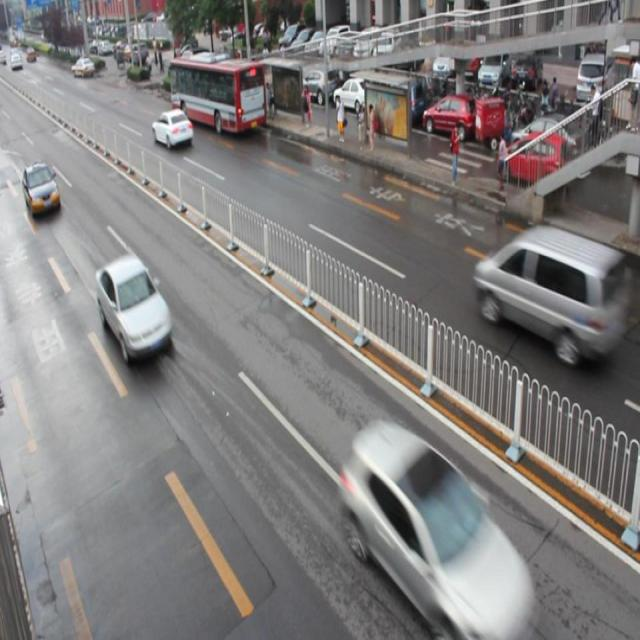car: (342, 422, 534, 621), (95, 252, 173, 360), (23, 160, 61, 220), (152, 108, 194, 149)
truck: (476, 224, 610, 363)
van: (169, 54, 265, 132)
